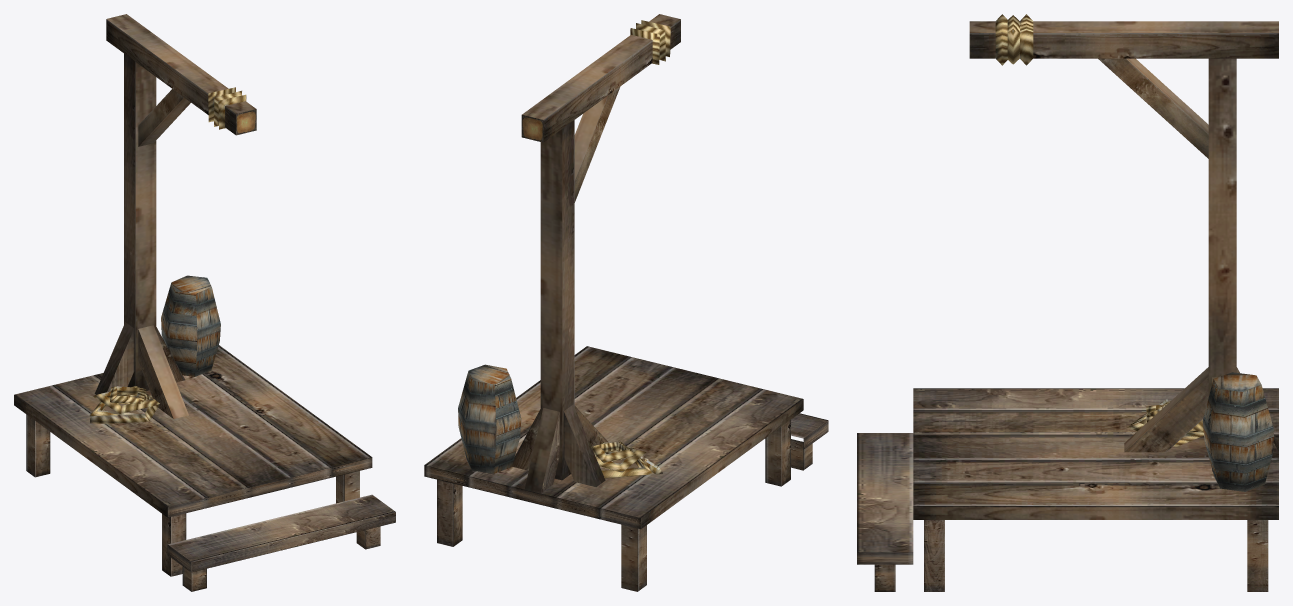
File: building_torture_gallows.glb
3 renders of one model, left to right at view 1: azimuth 30°, elevation 25°; view 2: azimuth 150°, elevation 25°; view 3: azimuth 270°, elevation 25°, orthographic. The views are drawn at different scales.
Parts seen in each view (by area): view 1: building_torture_gallows; view 2: building_torture_gallows; view 3: building_torture_gallows.
Boxes of the visible parts, x1=… form: building_torture_gallows: x1=14, y1=14, x2=395, y2=591; building_torture_gallows: x1=424, y1=14, x2=828, y2=591; building_torture_gallows: x1=857, y1=14, x2=1278, y2=591.
Bounding box in the file's own units: 2.05 × 4.14 × 3.07.
4 materials, 4 textured.
